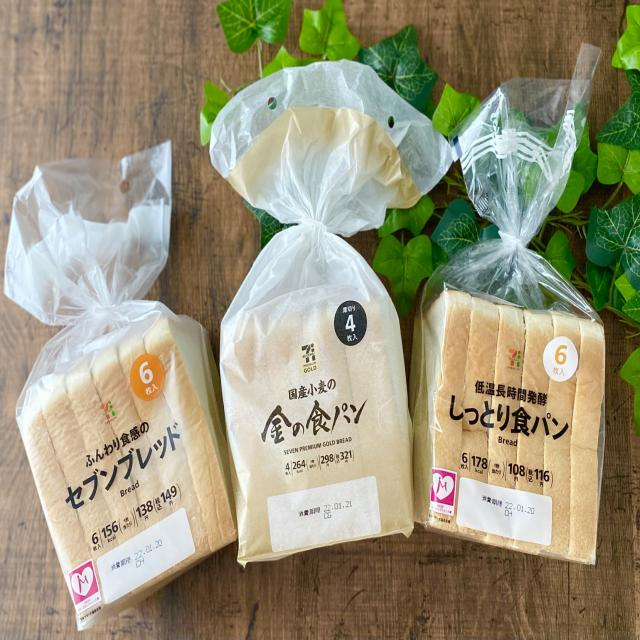bread: (209, 60, 457, 569), (3, 154, 238, 633), (407, 44, 607, 568)
